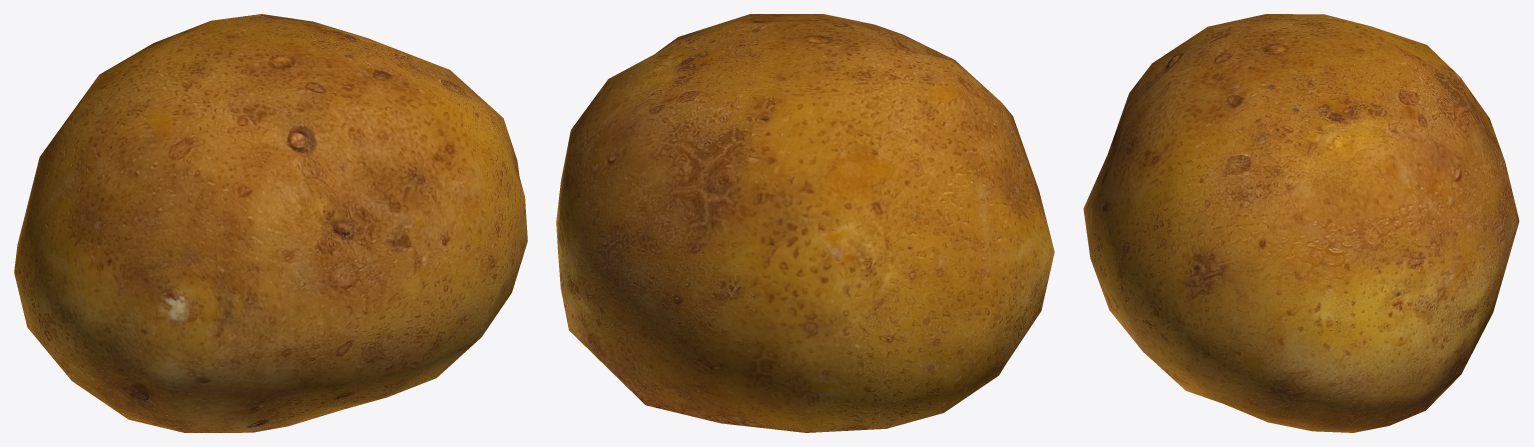
The model's file is A38_Potato_low.fbx.
The picture shows the model from 3 angles, left to right: view 1: azimuth 30°, elevation 25°; view 2: azimuth 150°, elevation 25°; view 3: azimuth 270°, elevation 25°; orthographic projection. The views are drawn at different scales.
Visible parts, largest first — view 1: A38_Potato_low; view 2: A38_Potato_low; view 3: A38_Potato_low.
Part boxes in pixels (x1,y1,x2,y2): A38_Potato_low: (14, 14, 527, 432); A38_Potato_low: (556, 14, 1054, 432); A38_Potato_low: (1083, 14, 1519, 432).
Size of the model in its own units: 13.94 by 12.09 by 10.4.
1 material, 1 textured.
